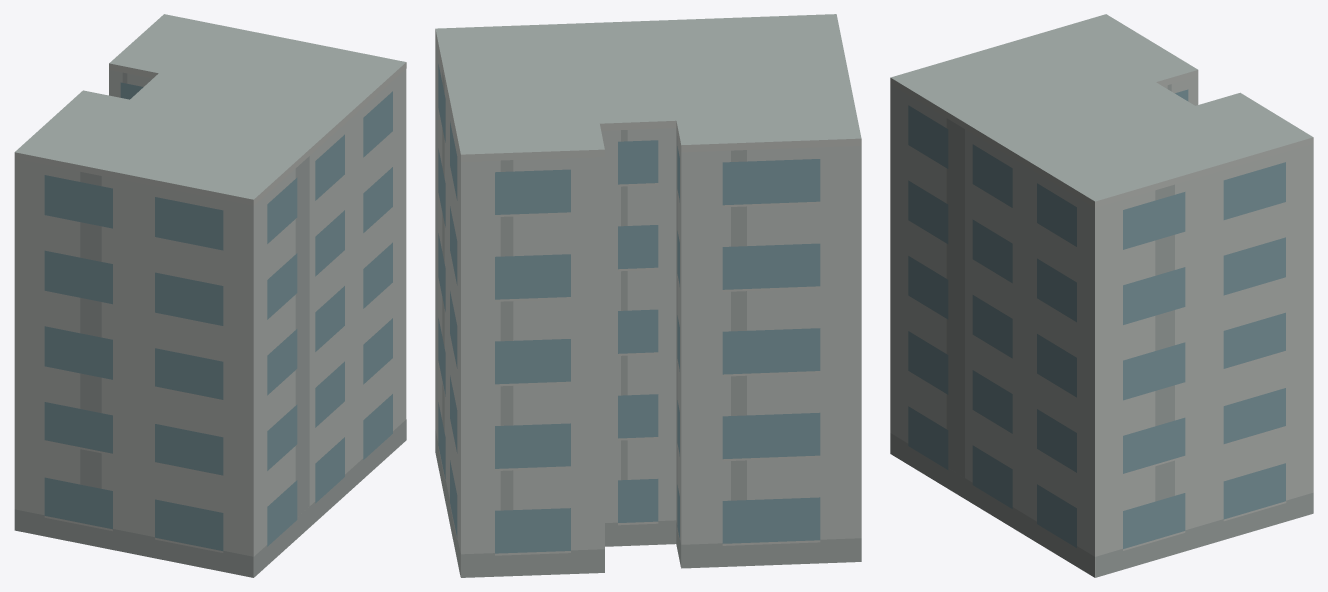
The model's file is residential-d234e939-4345-427b-9c59-4dacc700d3ac.glb.
3 renders of one model, left to right at view 1: azimuth 30°, elevation 25°; view 2: azimuth 150°, elevation 25°; view 3: azimuth 270°, elevation 25°, orthographic. The views are drawn at different scales.
Visible parts, largest first — view 1: residential-d234e939-4345-427b-9c59-4dacc700d3ac.tmp; view 2: residential-d234e939-4345-427b-9c59-4dacc700d3ac.tmp; view 3: residential-d234e939-4345-427b-9c59-4dacc700d3ac.tmp.
Boxes of the visible parts, <box> form: residential-d234e939-4345-427b-9c59-4dacc700d3ac.tmp: <box>14,14,406,577</box>; residential-d234e939-4345-427b-9c59-4dacc700d3ac.tmp: <box>435,14,861,577</box>; residential-d234e939-4345-427b-9c59-4dacc700d3ac.tmp: <box>890,14,1313,577</box>.
Bounding box in the file's own units: 15.19 × 14.2 × 14.48.
